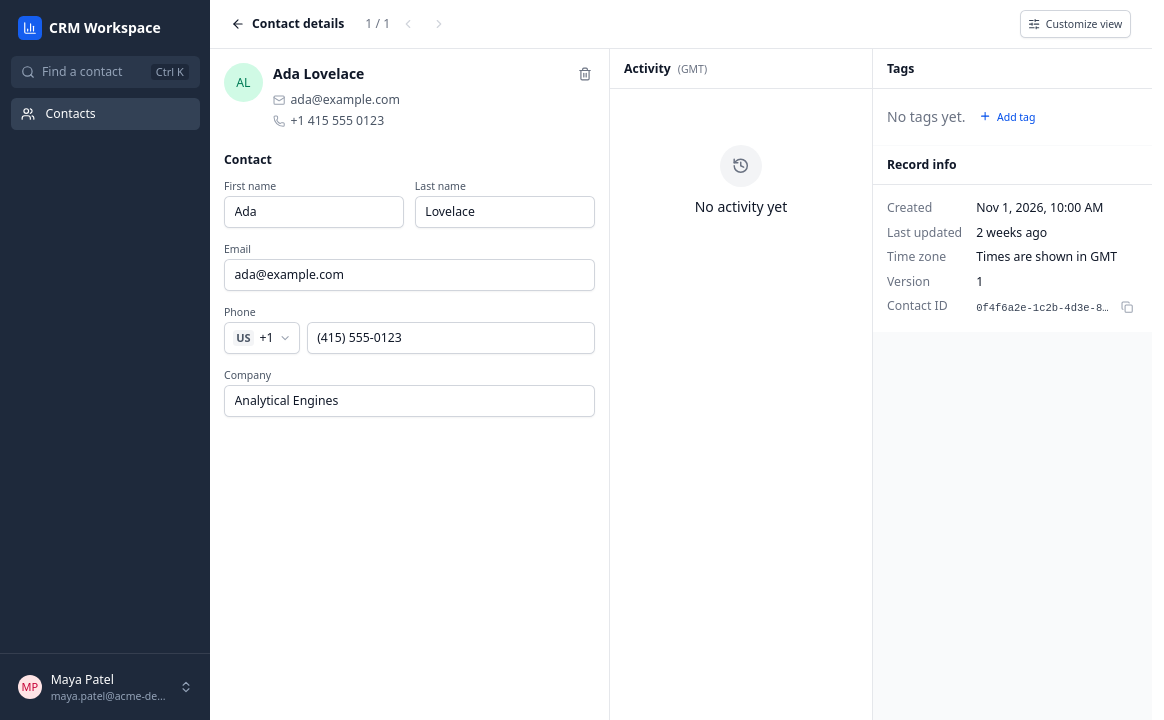
it: ContactDetailPage › blocks invalid input before it reaches the server
The image size is (1164, 720).
Clear the field labelled "First name" at (314, 212), box [224,196,404,228]
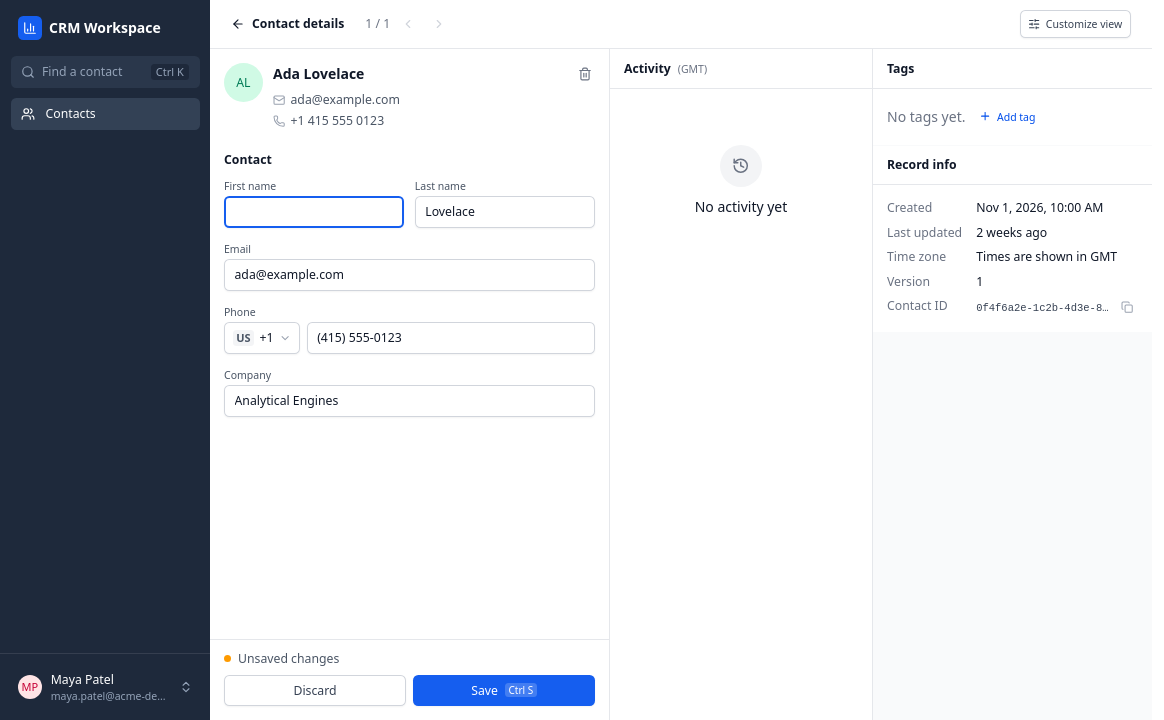
Click the button "Save Ctrl S" at (504, 690), box [413,674,595,706]
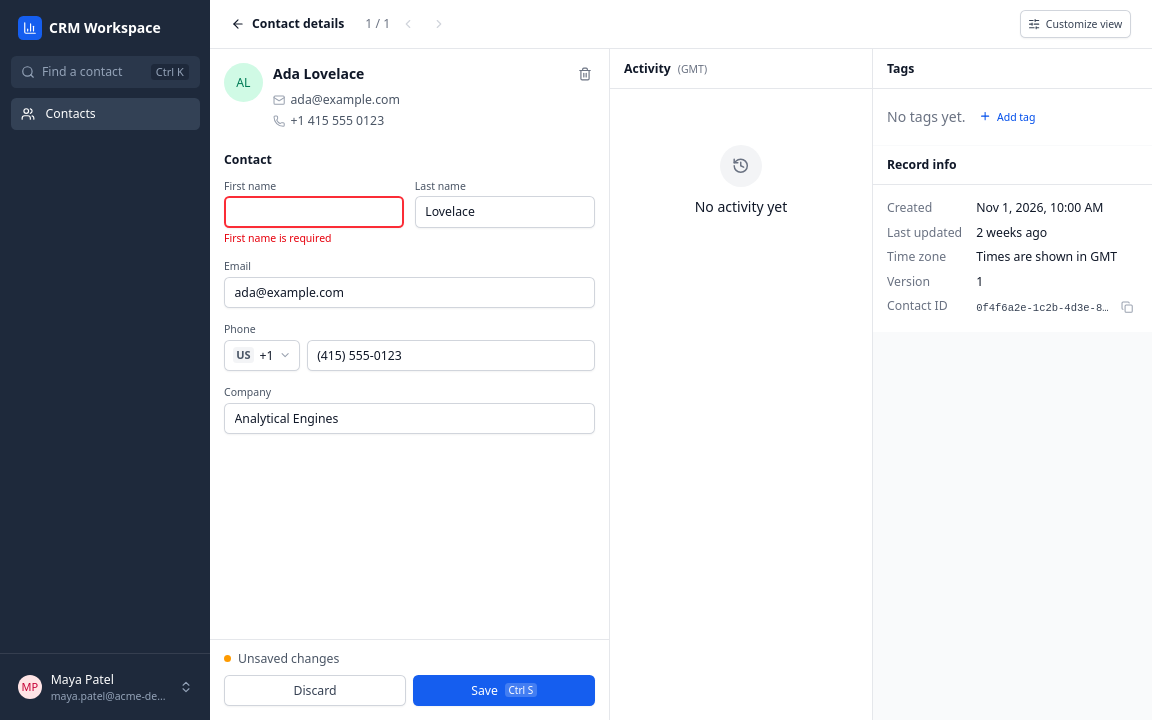
Now the text "First name is required" is shown, box [224,231,332,245]
